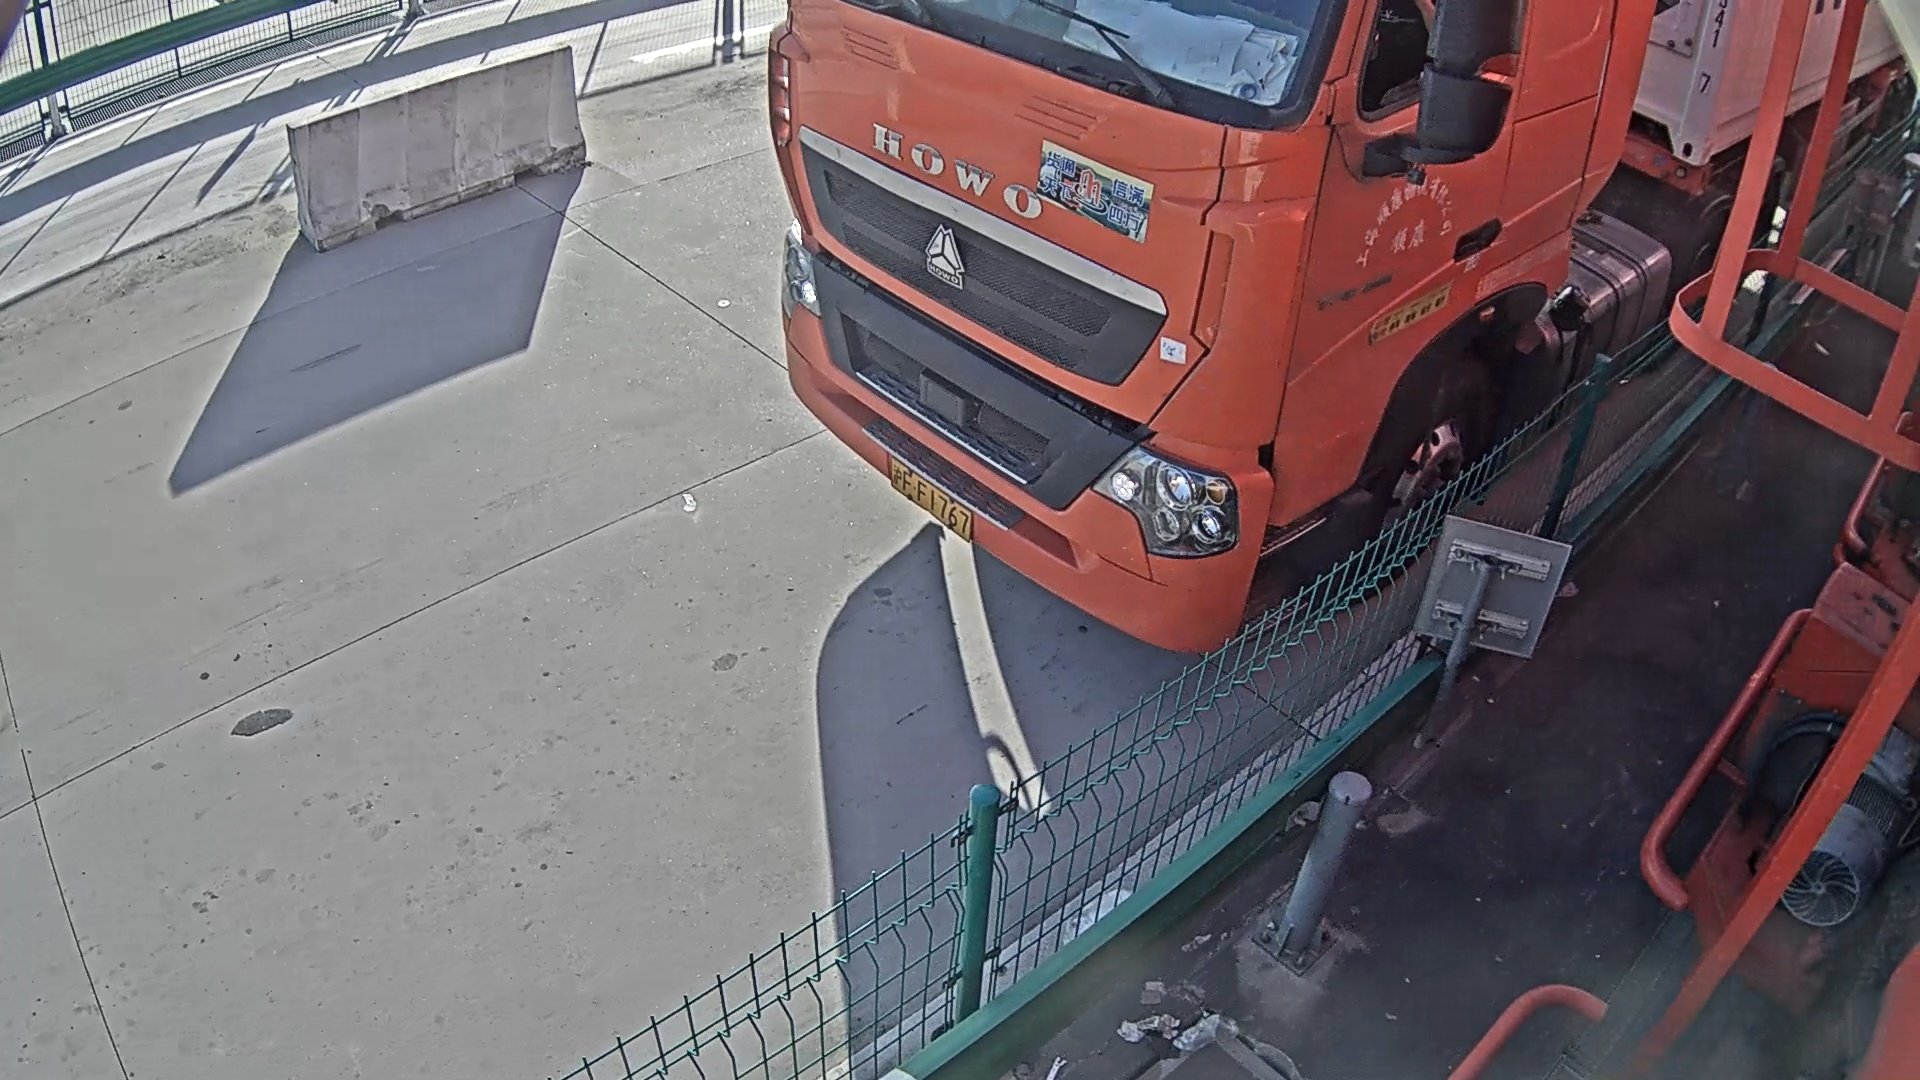head: (766, 1, 1639, 651)
plate: (885, 456, 969, 543)
